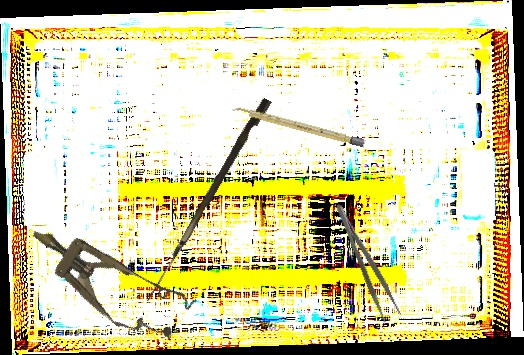Dressing Forceps: (332, 198, 403, 324)
Hook Surgical: (146, 95, 272, 307)
Scalpel Handle: (231, 104, 366, 148)
Speculum: (15, 205, 198, 355)
